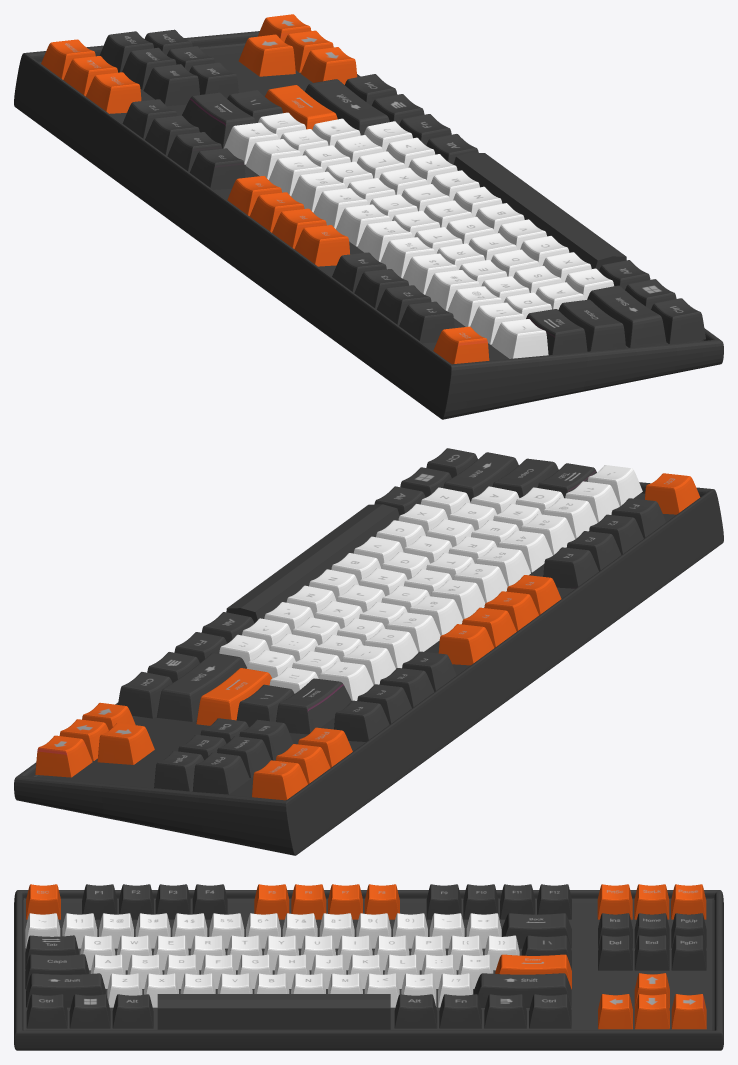
Rendered from tkl_keyboard_orange_black_white.glb.
3 views of the same model, one above another, from view 1: azimuth 30°, elevation 25°; view 2: azimuth 150°, elevation 25°; view 3: azimuth 270°, elevation 25° (orthographic). The views are drawn at different scales.
Visible parts, largest first — view 1: Keyboard Body; view 2: Keyboard Body; view 3: Keyboard Body.
Boxes of the visible parts, bbox=[...] form: Keyboard Body: bbox=[14, 14, 723, 419]; Keyboard Body: bbox=[14, 448, 723, 855]; Keyboard Body: bbox=[14, 884, 723, 1050].
Size of the model in its own units: 5.55 by 1.5 by 14.78.
Materials: 2 (1 with a texture image).
